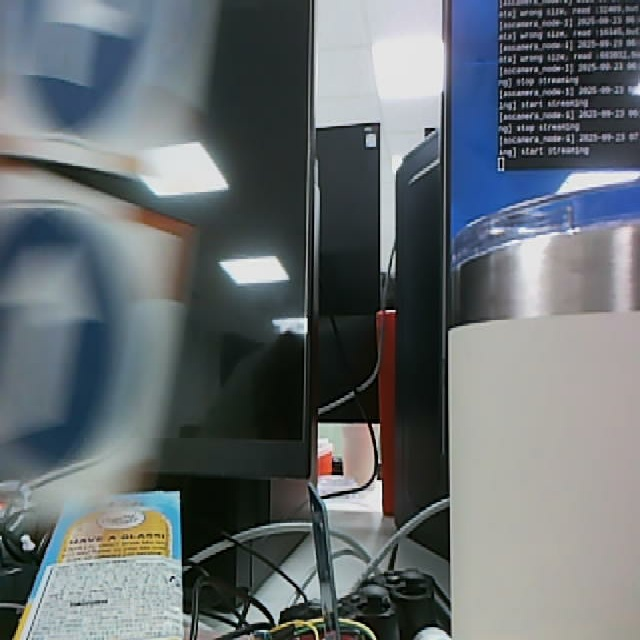parking: (1, 1, 217, 181)
straight: (1, 170, 193, 500)
